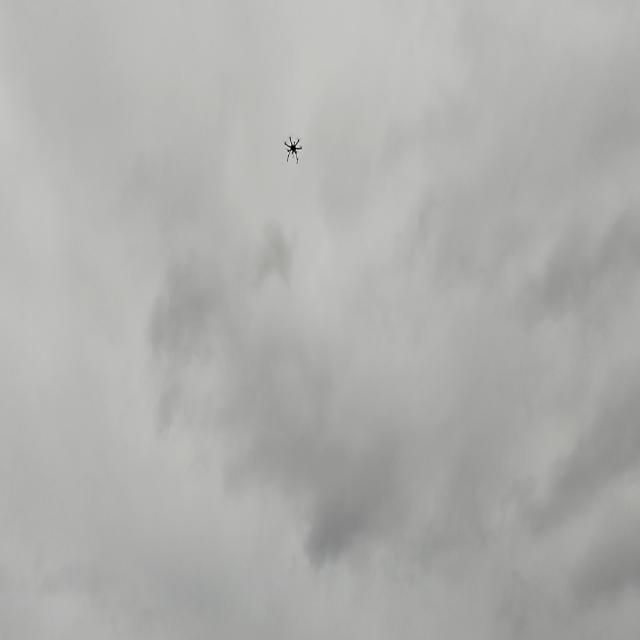drone: (283, 134, 304, 165)
